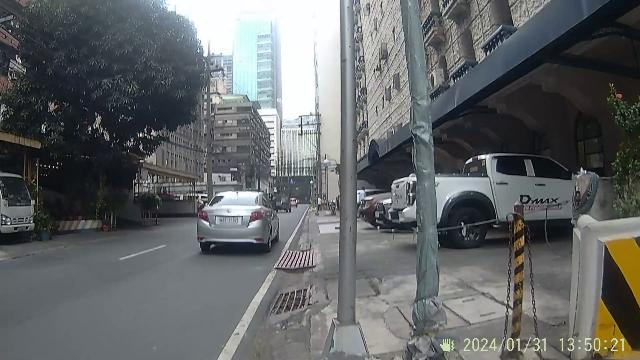car: (462, 147, 584, 247), (202, 180, 284, 255)
utility_post: (328, 2, 369, 360)
